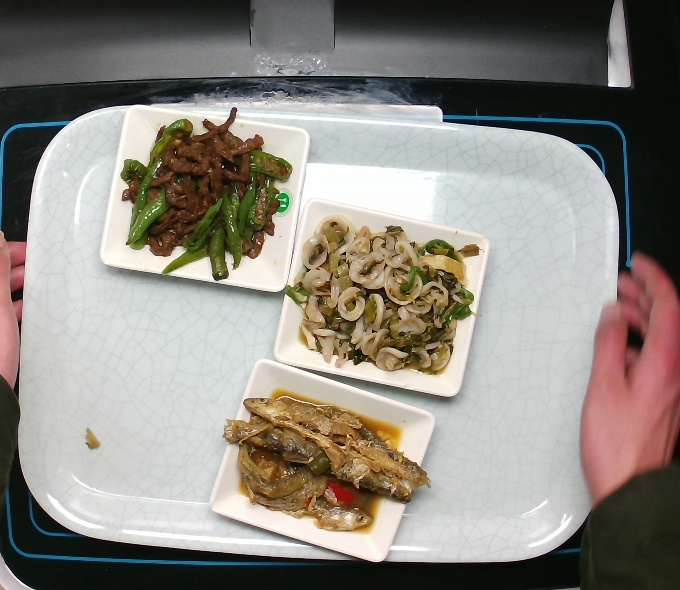wcq-QingJiaoNiuRou: (112, 107, 297, 283)
wcq-XiaoXiYu: (222, 388, 440, 533)
wcq-XueCaiYouYu: (288, 209, 475, 384)
